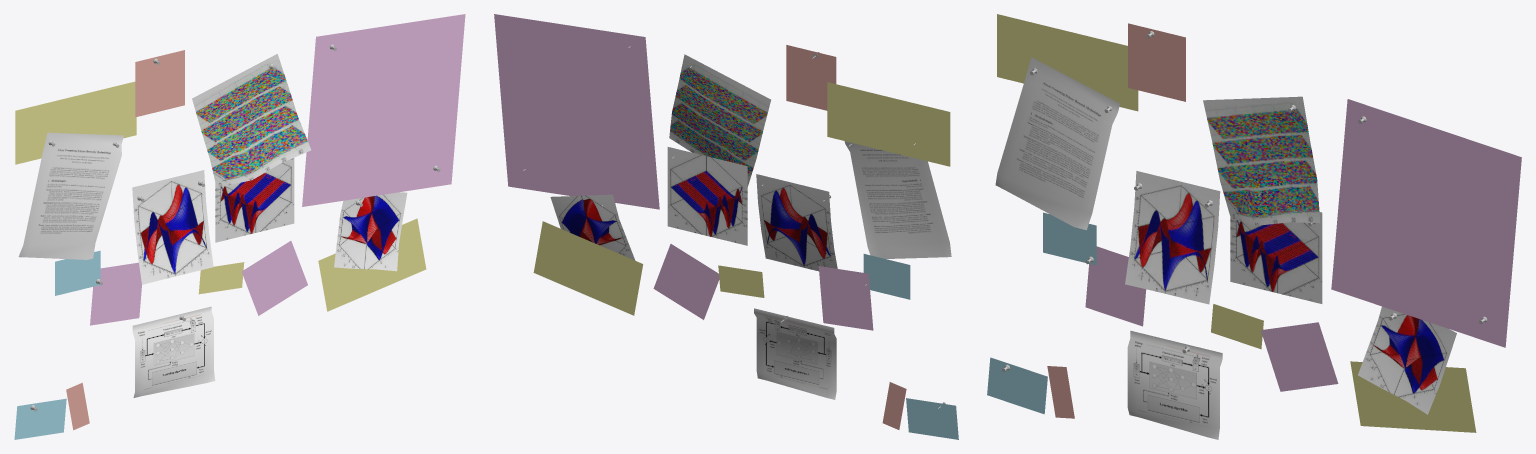
Rendered from Papers.fbx.
3 renders of one model, left to right at view 1: azimuth 30°, elevation 25°; view 2: azimuth 150°, elevation 25°; view 3: azimuth 330°, elevation 25°, orthographic. The views are drawn at different scales.
Visible parts, largest first — view 1: Paper003, Paper002, Paper001; view 2: Paper003, Paper002, Paper001; view 3: Paper003, Paper002, Paper001, Pin001.
Boxes of the visible parts, x1=… form: Paper003: x1=14, y1=14, x2=465, y2=439; Paper002: x1=132, y1=54, x2=407, y2=284; Paper001: x1=18, y1=132, x2=215, y2=397; Paper003: x1=494, y1=14, x2=958, y2=439; Paper002: x1=550, y1=54, x2=837, y2=271; Paper001: x1=754, y1=141, x2=951, y2=399; Paper003: x1=987, y1=14, x2=1521, y2=432; Paper002: x1=1125, y1=96, x2=1456, y2=414; Paper001: x1=995, y1=57, x2=1222, y2=439; Pin001: x1=1002, y1=31, x2=1487, y2=372.
Bounding box in the file's own units: 9.66 × 228 × 169.
